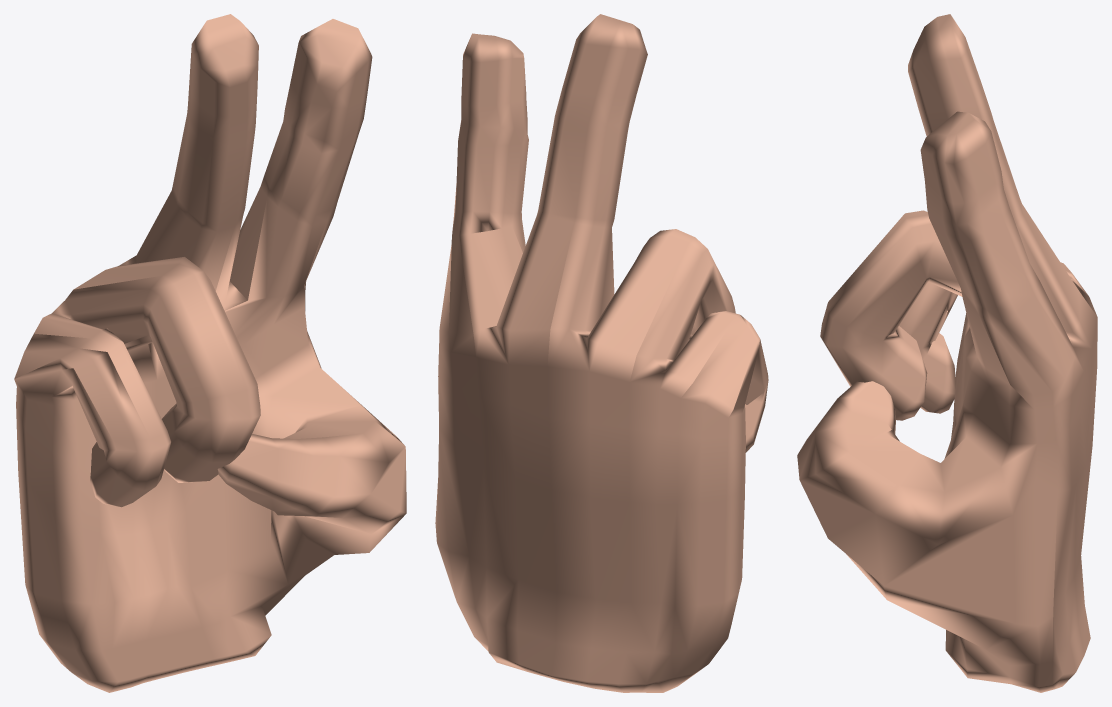
The model's file is mao_2.obj.
The picture shows the model from 3 angles, left to right: view 1: azimuth 30°, elevation 25°; view 2: azimuth 150°, elevation 25°; view 3: azimuth 270°, elevation 25°; orthographic projection. The views are drawn at different scales.
Parts seen in each view (by area): view 1: Box04; view 2: Box04; view 3: Box04.
Part boxes in pixels (<box>): Box04: <box>14,14,406,692</box>; Box04: <box>435,14,768,692</box>; Box04: <box>797,14,1097,692</box>.
Bounding box in the file's own units: 132 × 243 × 104.
